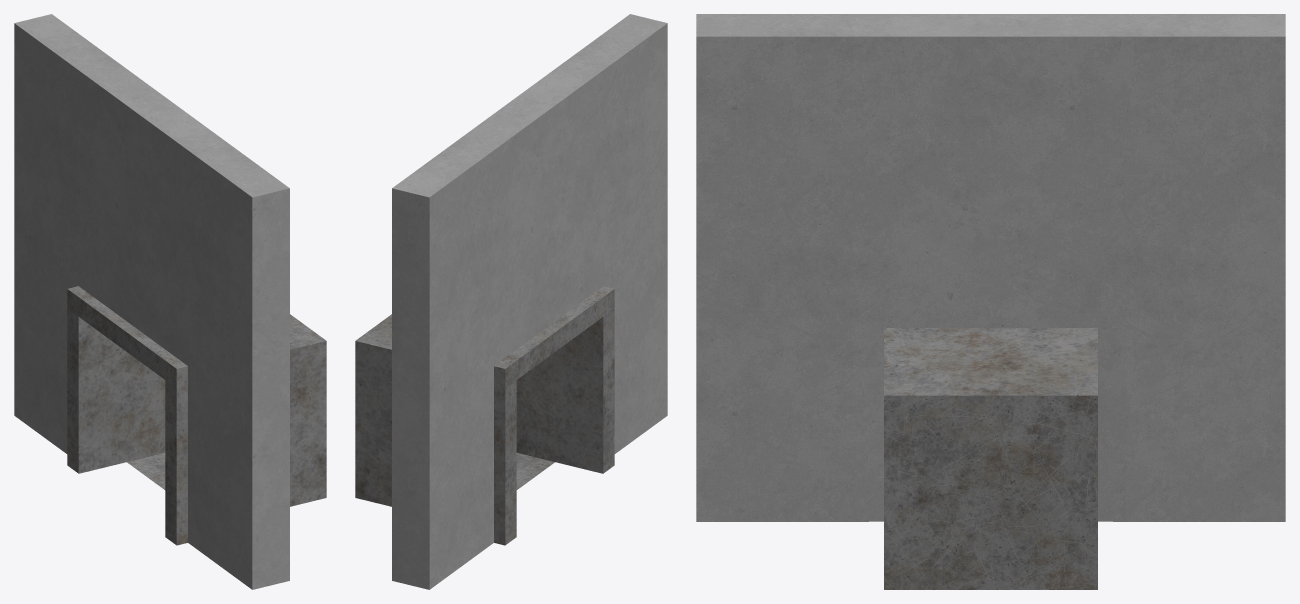
Rendered from Wall_Vent.fbx.
3 renders of one model, left to right at view 1: azimuth 30°, elevation 25°; view 2: azimuth 150°, elevation 25°; view 3: azimuth 270°, elevation 25°, orthographic. The views are drawn at different scales.
Parts seen in each view (by area): view 1: Wall_Vent; view 2: Wall_Vent; view 3: Wall_Vent.
Part boxes in pixels (x1,y1,x2,y2): Wall_Vent: (14, 14, 326, 589); Wall_Vent: (355, 14, 667, 589); Wall_Vent: (696, 14, 1285, 589).
Bounding box in the file's own units: 0.86 × 2 × 2.2.
